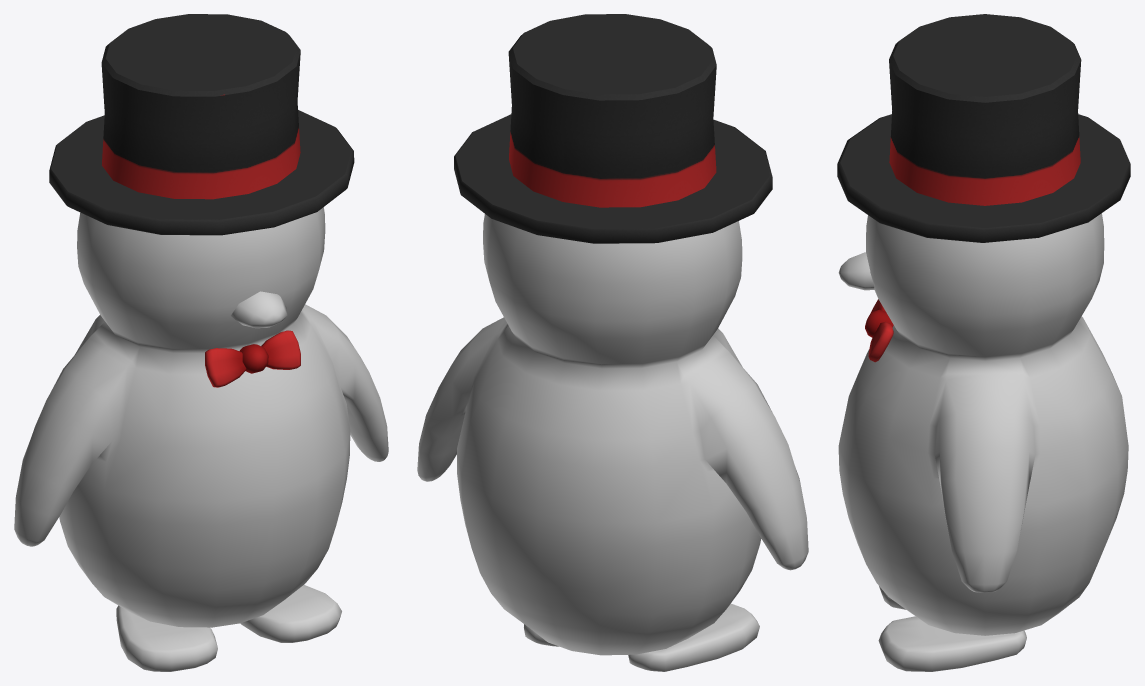
File: SM_Penguin2.FBX
3 views of the same model, side by side, from view 1: azimuth 30°, elevation 25°; view 2: azimuth 150°, elevation 25°; view 3: azimuth 270°, elevation 25° (orthographic). The views are drawn at different scales.
Parts seen in each view (by area): view 1: SM_Penguin2Body, SM_Penguin2Accessories; view 2: SM_Penguin2Body, SM_Penguin2Accessories; view 3: SM_Penguin2Body, SM_Penguin2Accessories.
Part boxes in pixels (bbox=[...]): SM_Penguin2Body: bbox=[14, 207, 388, 671]; SM_Penguin2Accessories: bbox=[49, 14, 354, 387]; SM_Penguin2Body: bbox=[417, 214, 808, 671]; SM_Penguin2Accessories: bbox=[454, 14, 772, 243]; SM_Penguin2Body: bbox=[838, 213, 1128, 671]; SM_Penguin2Accessories: bbox=[837, 14, 1130, 362].
Size of the model in its own units: 49.07 by 72.69 by 33.98.
